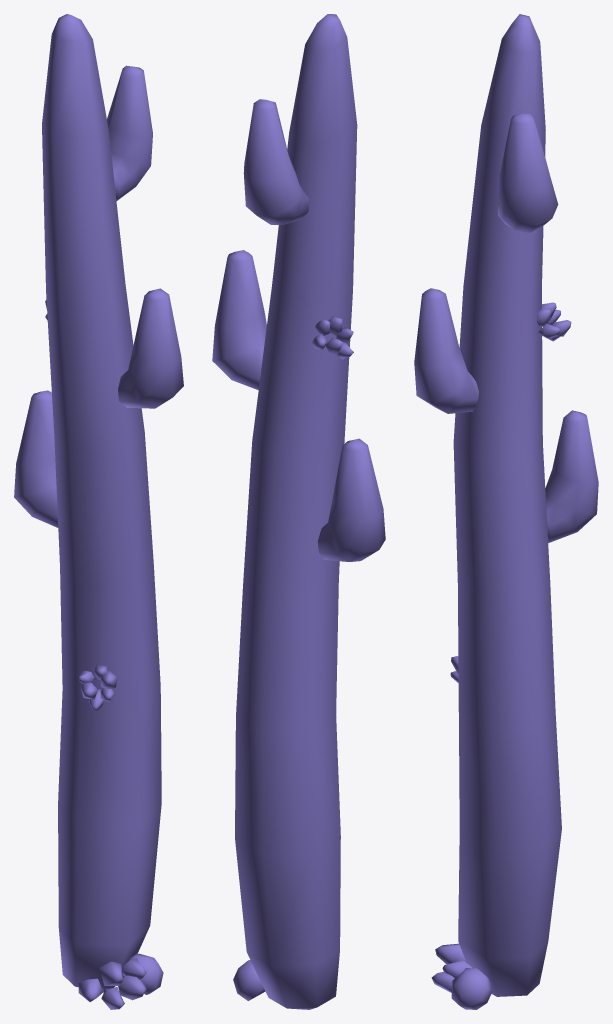
File: Cactus_Tall_02.fbx
The picture shows the model from 3 angles, left to right: view 1: azimuth 30°, elevation 25°; view 2: azimuth 210°, elevation 25°; view 3: azimuth 270°, elevation 25°; orthographic projection. The views are drawn at different scales.
Visible parts, largest first — view 1: Cactus_Tall_02; view 2: Cactus_Tall_02; view 3: Cactus_Tall_02.
Boxes of the visible parts, x1,y1,x2,y2 form: Cactus_Tall_02: (14, 14, 183, 1009); Cactus_Tall_02: (212, 14, 385, 1009); Cactus_Tall_02: (414, 14, 598, 1009).
Size of the model in its own units: 44.82 by 387 by 66.64.
